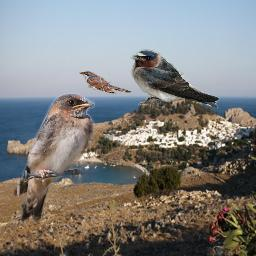Cuckoo: (79, 70, 132, 95)
Swallow: (12, 92, 95, 223), (129, 49, 220, 109)
